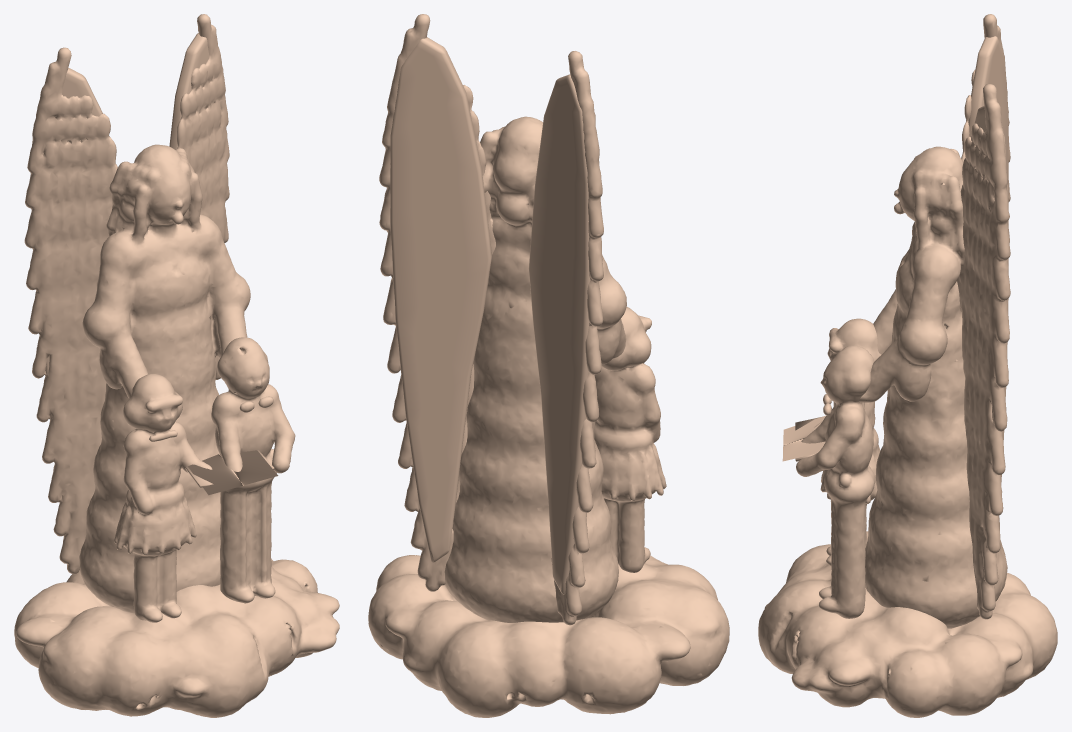
The model's file is angel_fountain.glb.
3 renders of one model, left to right at view 1: azimuth 30°, elevation 25°; view 2: azimuth 150°, elevation 25°; view 3: azimuth 270°, elevation 25°, orthographic. The views are drawn at different scales.
Visible parts, largest first — view 1: AngelFountain; view 2: AngelFountain; view 3: AngelFountain.
Part boxes in pixels (x1,y1,x2,y2): AngelFountain: (14, 14, 339, 717); AngelFountain: (368, 14, 729, 717); AngelFountain: (758, 14, 1057, 717).
Size of the model in its own units: 1.54 by 3.11 by 1.35.
